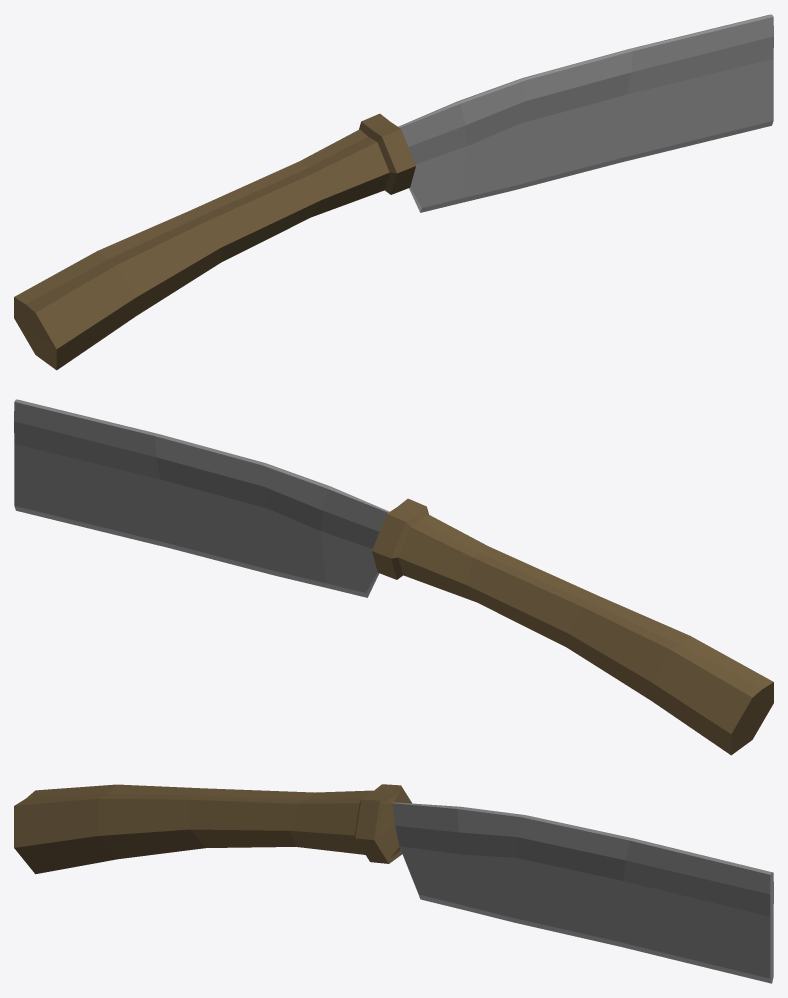
The model's file is Cleaver.fbx.
3 views of the same model, one above another, from view 1: azimuth 30°, elevation 25°; view 2: azimuth 150°, elevation 25°; view 3: azimuth 330°, elevation 25° (orthographic).
Visible parts, largest first — view 1: Nata; view 2: Nata; view 3: Nata.
Part boxes in pixels (left/top/right/bottom): Nata: left=14, top=14, right=773, bottom=370; Nata: left=14, top=399, right=773, bottom=755; Nata: left=14, top=784, right=773, bottom=983.
Size of the model in its own units: 69.6 by 15.22 by 6.88.
